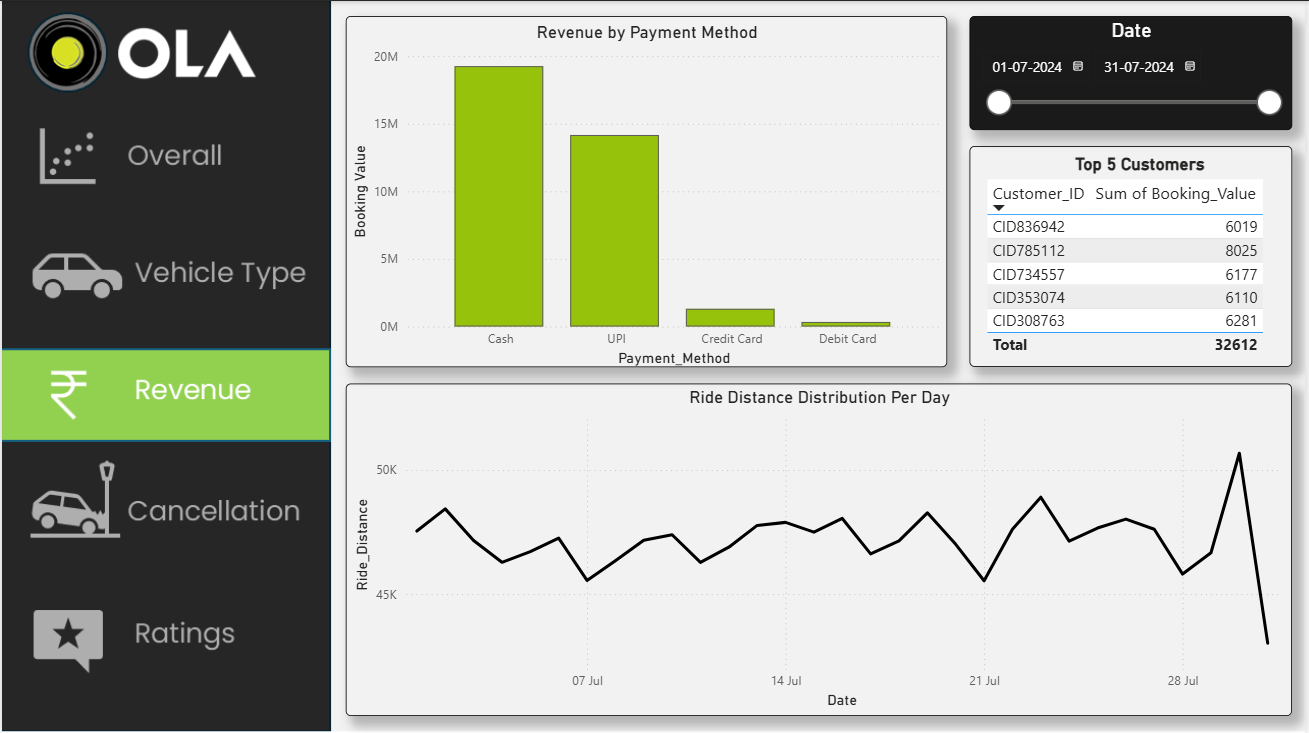

This screenshot's page, from the dashboard's own definition file:
{"tool":"powerbi","page":{"name":"Revenue","canvas":[1280,720],"ordinal":2},"visuals":[{"type":"actionButton","box":[0,111.7,321.5,89.6],"z":0},{"type":"actionButton","box":[0,439.3,321.5,132.5],"z":1000},{"type":"actionButton","box":[0,203.7,321.5,130.1],"z":2000},{"type":"actionButton","box":[0,571.8,321.5,132.5],"z":3000},{"type":"columnChart","title":"Revenue by Payment Method","fields":{"Category":["Bookings.Payment_Method"],"Y":["Sum(Bookings.Booking_Value)"]},"box":[337.6,15.1,590.1,344.4],"z":4000},{"type":"tableEx","title":"Top 5 Customers","fields":{"Values":["Bookings.Customer_ID","Sum(Bookings.Booking_Value)"]},"box":[949.6,142.7,317,216.8],"z":5000},{"type":"lineChart","title":"Ride Distance Distribution Per Day","fields":{"Category":["Bookings.Date"],"Y":["Sum(Bookings.Ride_Distance)"]},"box":[337.6,376,929,326.6],"z":6000},{"type":"slicer","title":"Date","fields":{"Values":["Bookings.Date"]},"box":[949.7,14.7,316.6,111.7],"z":7000}]}

Visuals, with their boxes in screenshot pixels (x1, y1, x2, y2), scaled from the page's 1280x720 canvas onto the 1309x733 screenshot:
actionButton: <region>0, 114, 329, 205</region>
actionButton: <region>0, 447, 329, 582</region>
actionButton: <region>0, 207, 329, 340</region>
actionButton: <region>0, 582, 329, 717</region>
"Revenue by Payment Method" columnChart: <region>345, 15, 949, 366</region>
"Top 5 Customers" tableEx: <region>971, 145, 1295, 366</region>
"Ride Distance Distribution Per Day" lineChart: <region>345, 383, 1295, 715</region>
"Date" slicer: <region>971, 15, 1295, 129</region>
